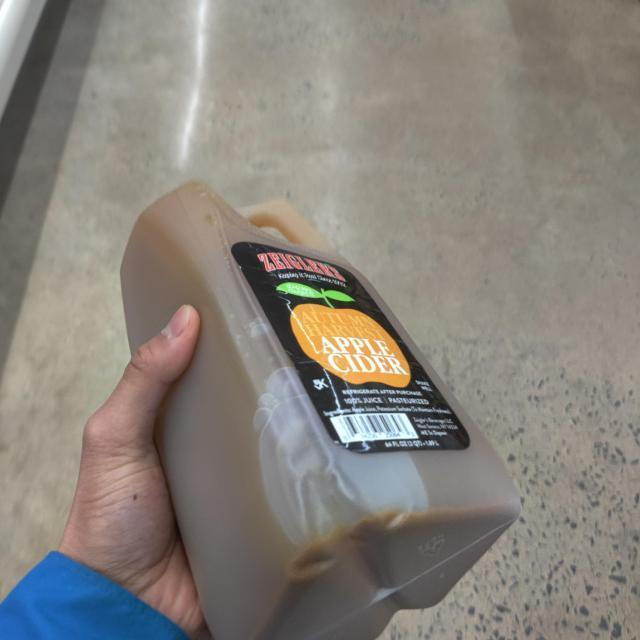Juice: (120, 186, 522, 640)
